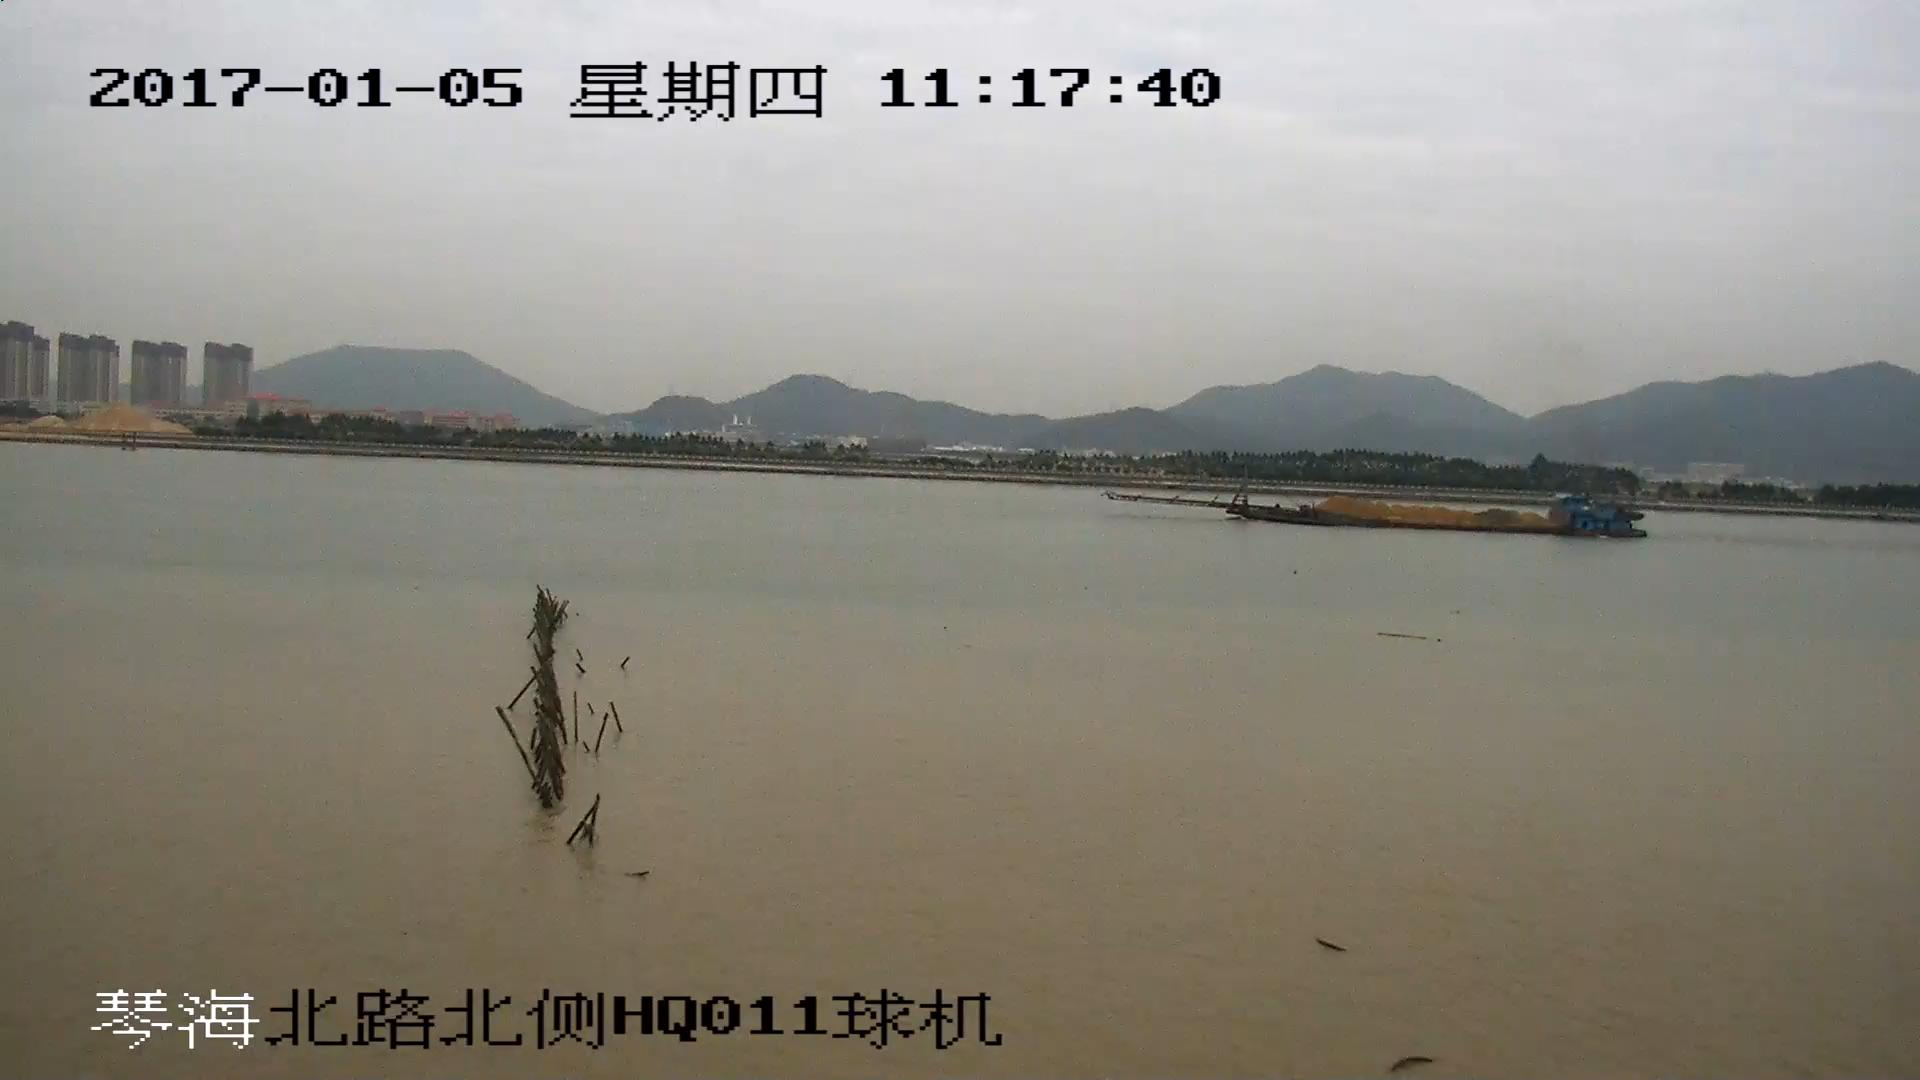ore carrier: (1128, 470, 1642, 536)
